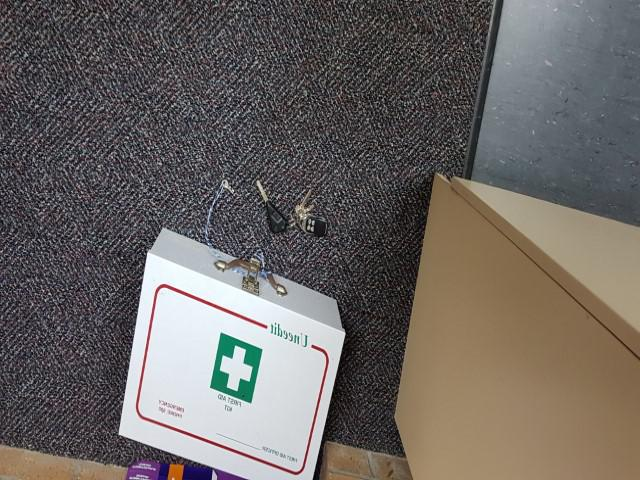key: (256, 179, 290, 233)
